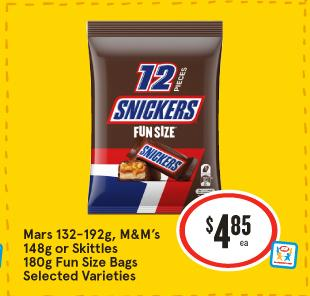description_block: (15, 219, 164, 289)
price_main: (196, 205, 263, 261)
product_image_block: (78, 13, 221, 218)
